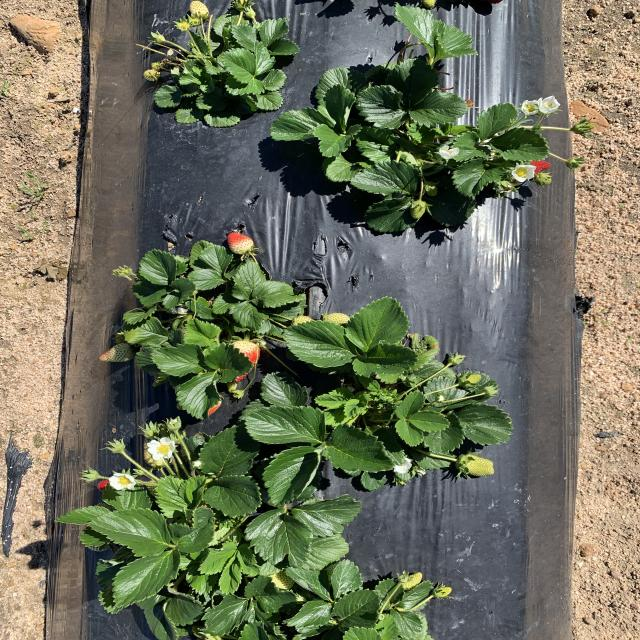unripe: (226, 342, 261, 381), (503, 158, 559, 176), (228, 235, 252, 259), (200, 396, 223, 415), (96, 478, 120, 495)
